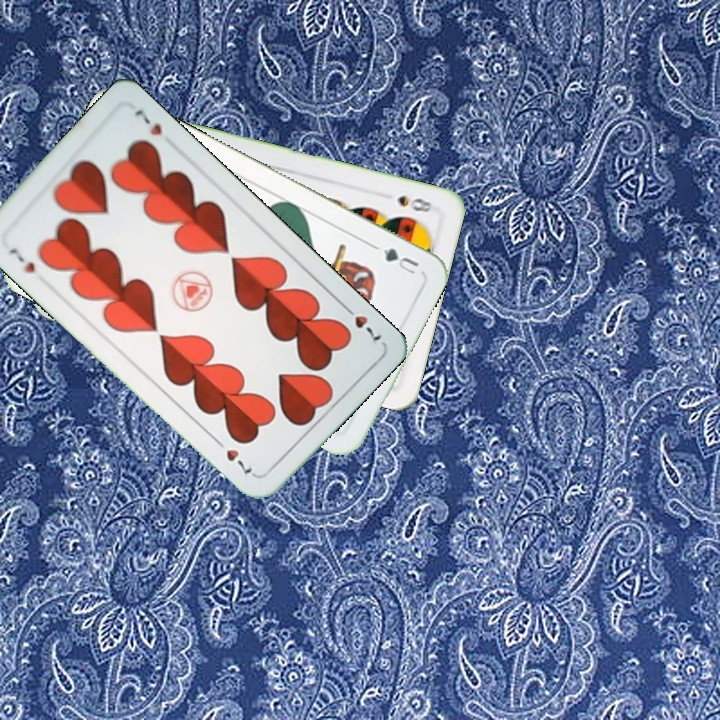GU: (379, 244, 422, 277)
H7: (338, 300, 384, 344), (5, 243, 38, 276)
S8: (393, 191, 440, 215)
